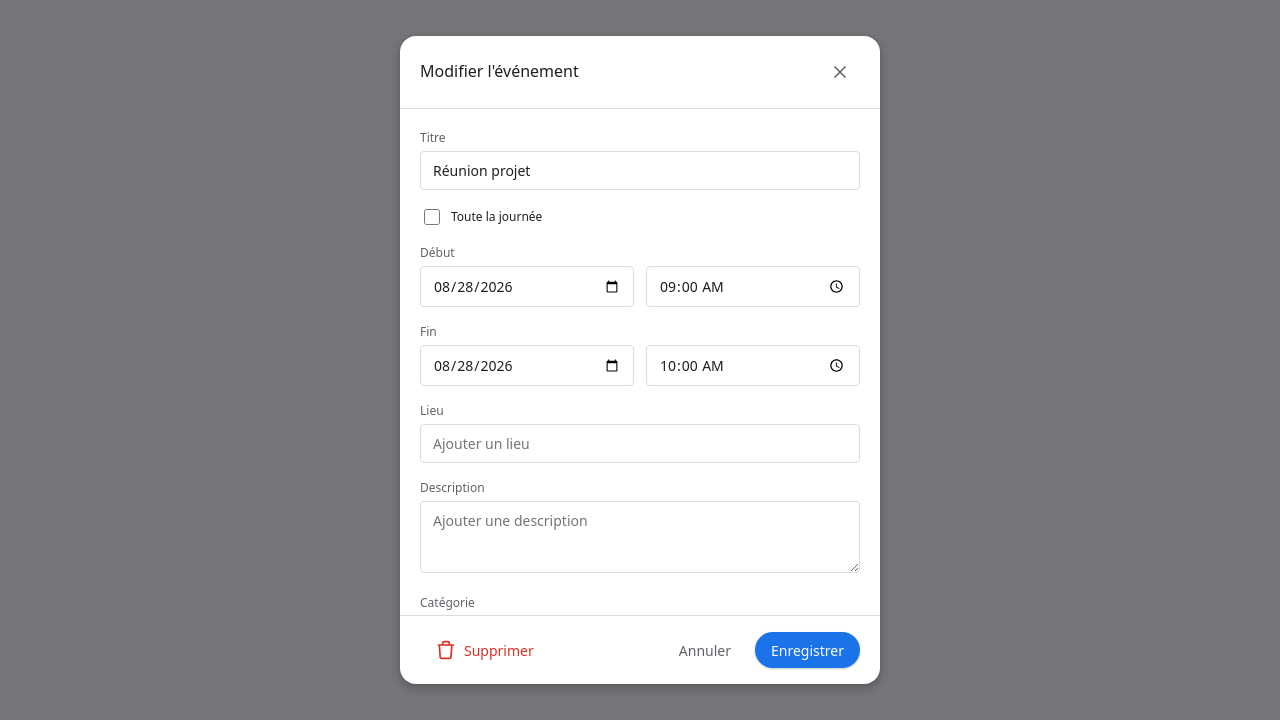
Test case: EventModal › suppression › cliquer sur Supprimer ouvre une confirmation sans supprimer immédiatement
The image size is (1280, 720).
Click the button with class "c-btn--danger" at (485, 650), box [420,632,550,668]
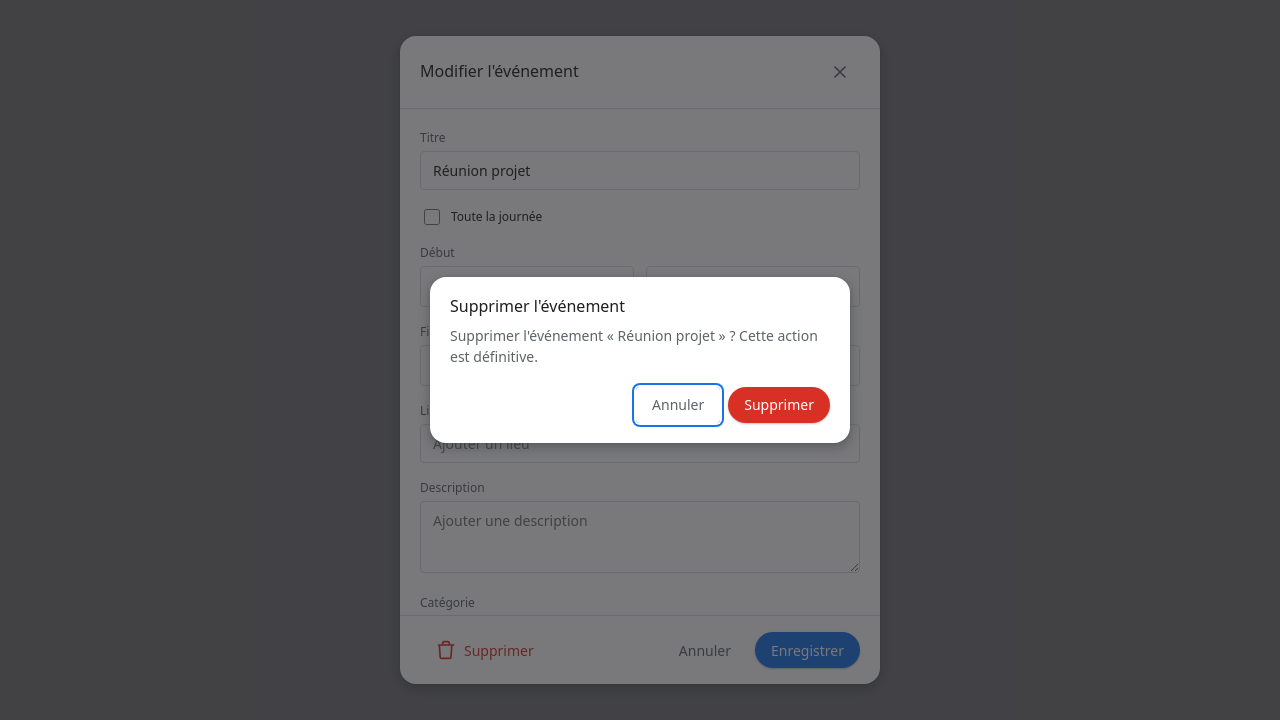
expect the dialog shows "Réunion projet": met, box [450,326,818,366]
